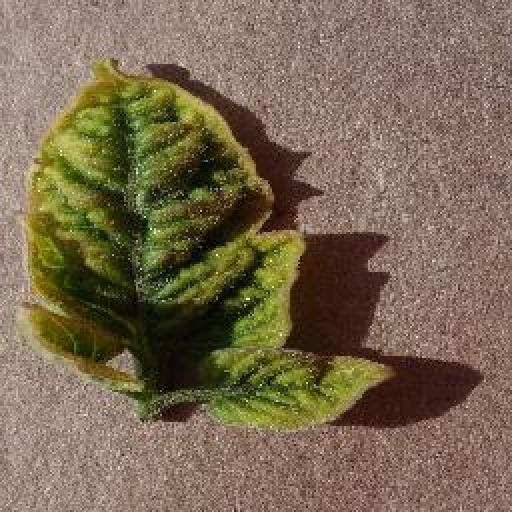Yellow Leaf Curl Virus: (19, 61, 399, 428)
